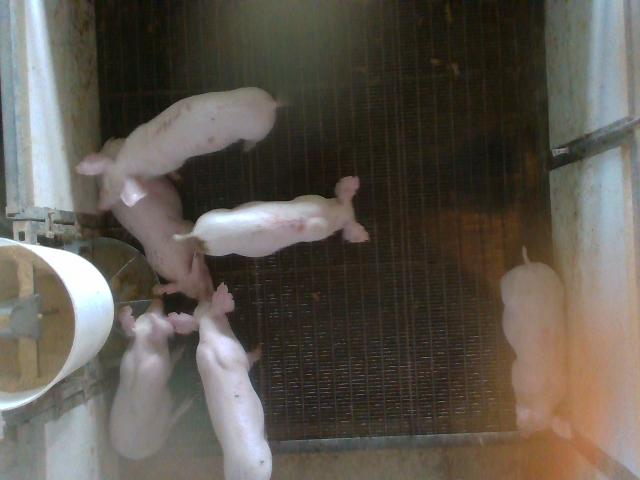pig-3: (76, 88, 278, 209)
pig-5: (175, 176, 369, 257)
